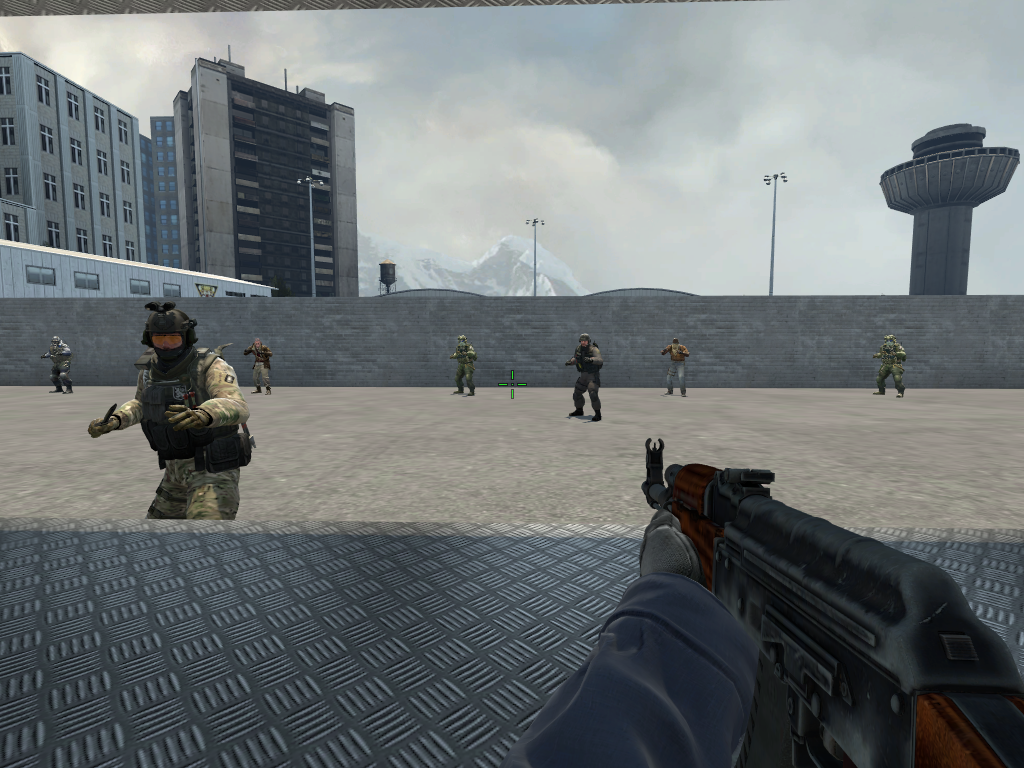ct head: (150, 314, 188, 359), (579, 334, 591, 347), (885, 336, 895, 348), (51, 336, 60, 347), (458, 336, 466, 347)
tr head: (672, 337, 679, 347), (254, 339, 260, 348)
